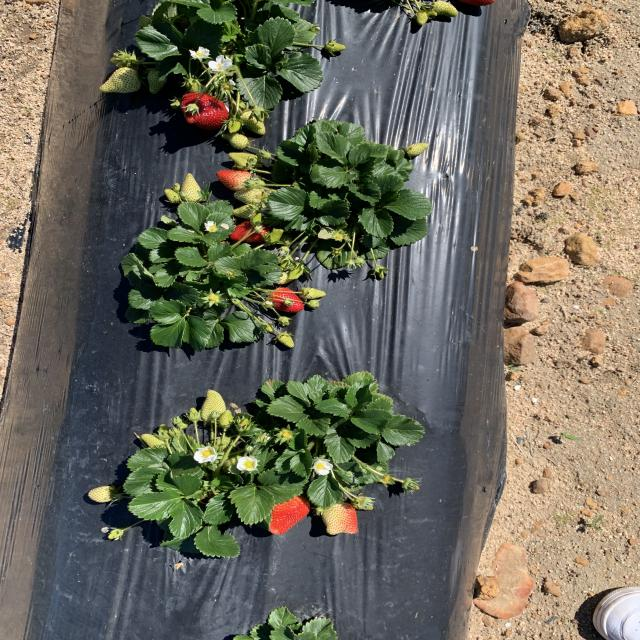unripe: (182, 91, 229, 127), (268, 494, 310, 534), (270, 287, 304, 311), (231, 221, 269, 242), (217, 169, 251, 188)
